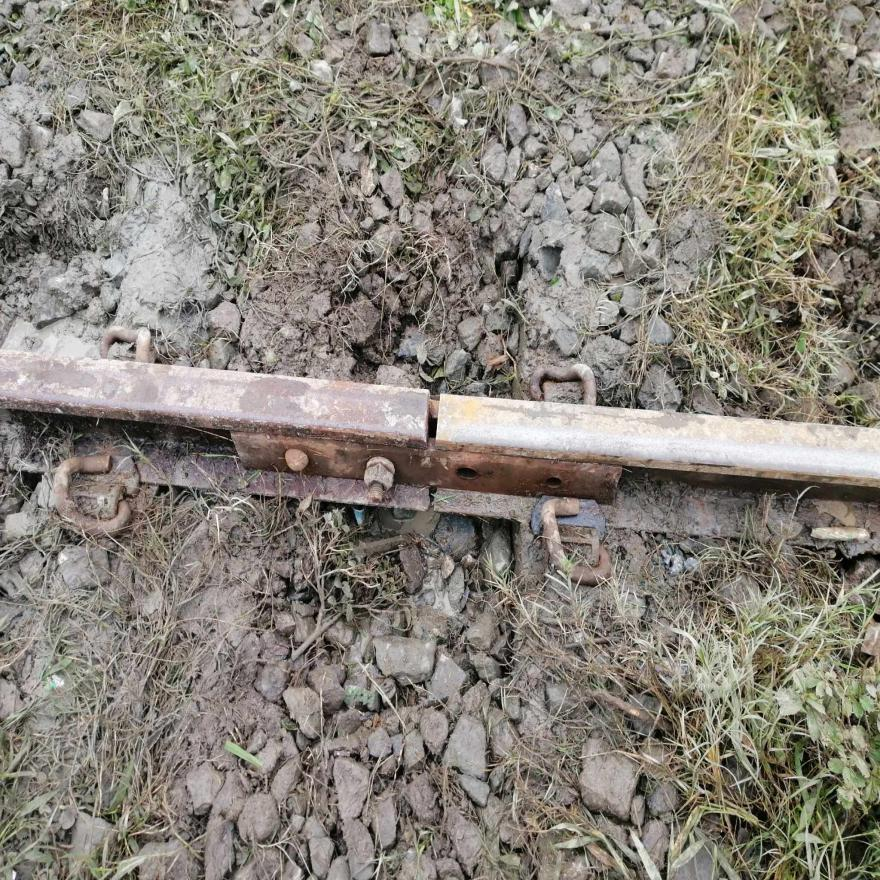railway-gap: (392, 370, 468, 463), (414, 483, 448, 518)
